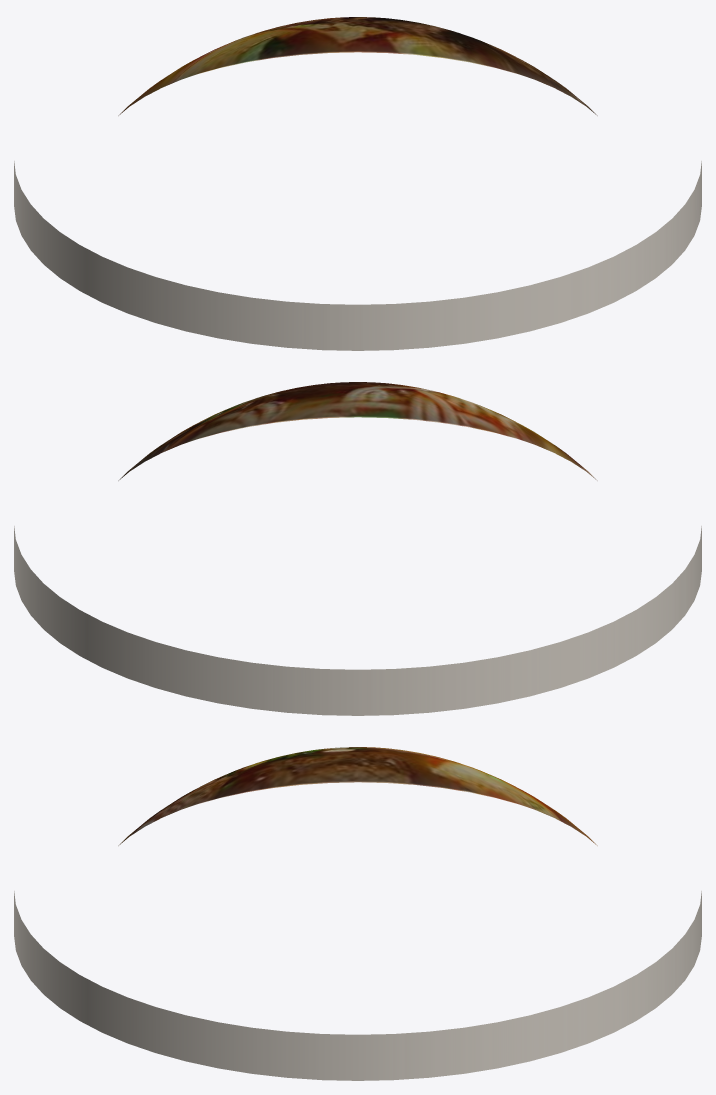
The model's file is thai.glb.
The picture shows the model from 3 angles, top to bottom: view 1: azimuth 30°, elevation 25°; view 2: azimuth 150°, elevation 25°; view 3: azimuth 270°, elevation 25°; orthographic projection.
Visible parts, largest first — view 1: thai; view 2: thai; view 3: thai.
Boxes of the visible parts, box(x1,y1,x2,y2) form: thai: box(14, 17, 701, 350); thai: box(14, 382, 701, 715); thai: box(14, 747, 701, 1080).
Bounding box in the file's own units: 0.27 × 0.069 × 0.27.
1 material, 1 textured.
